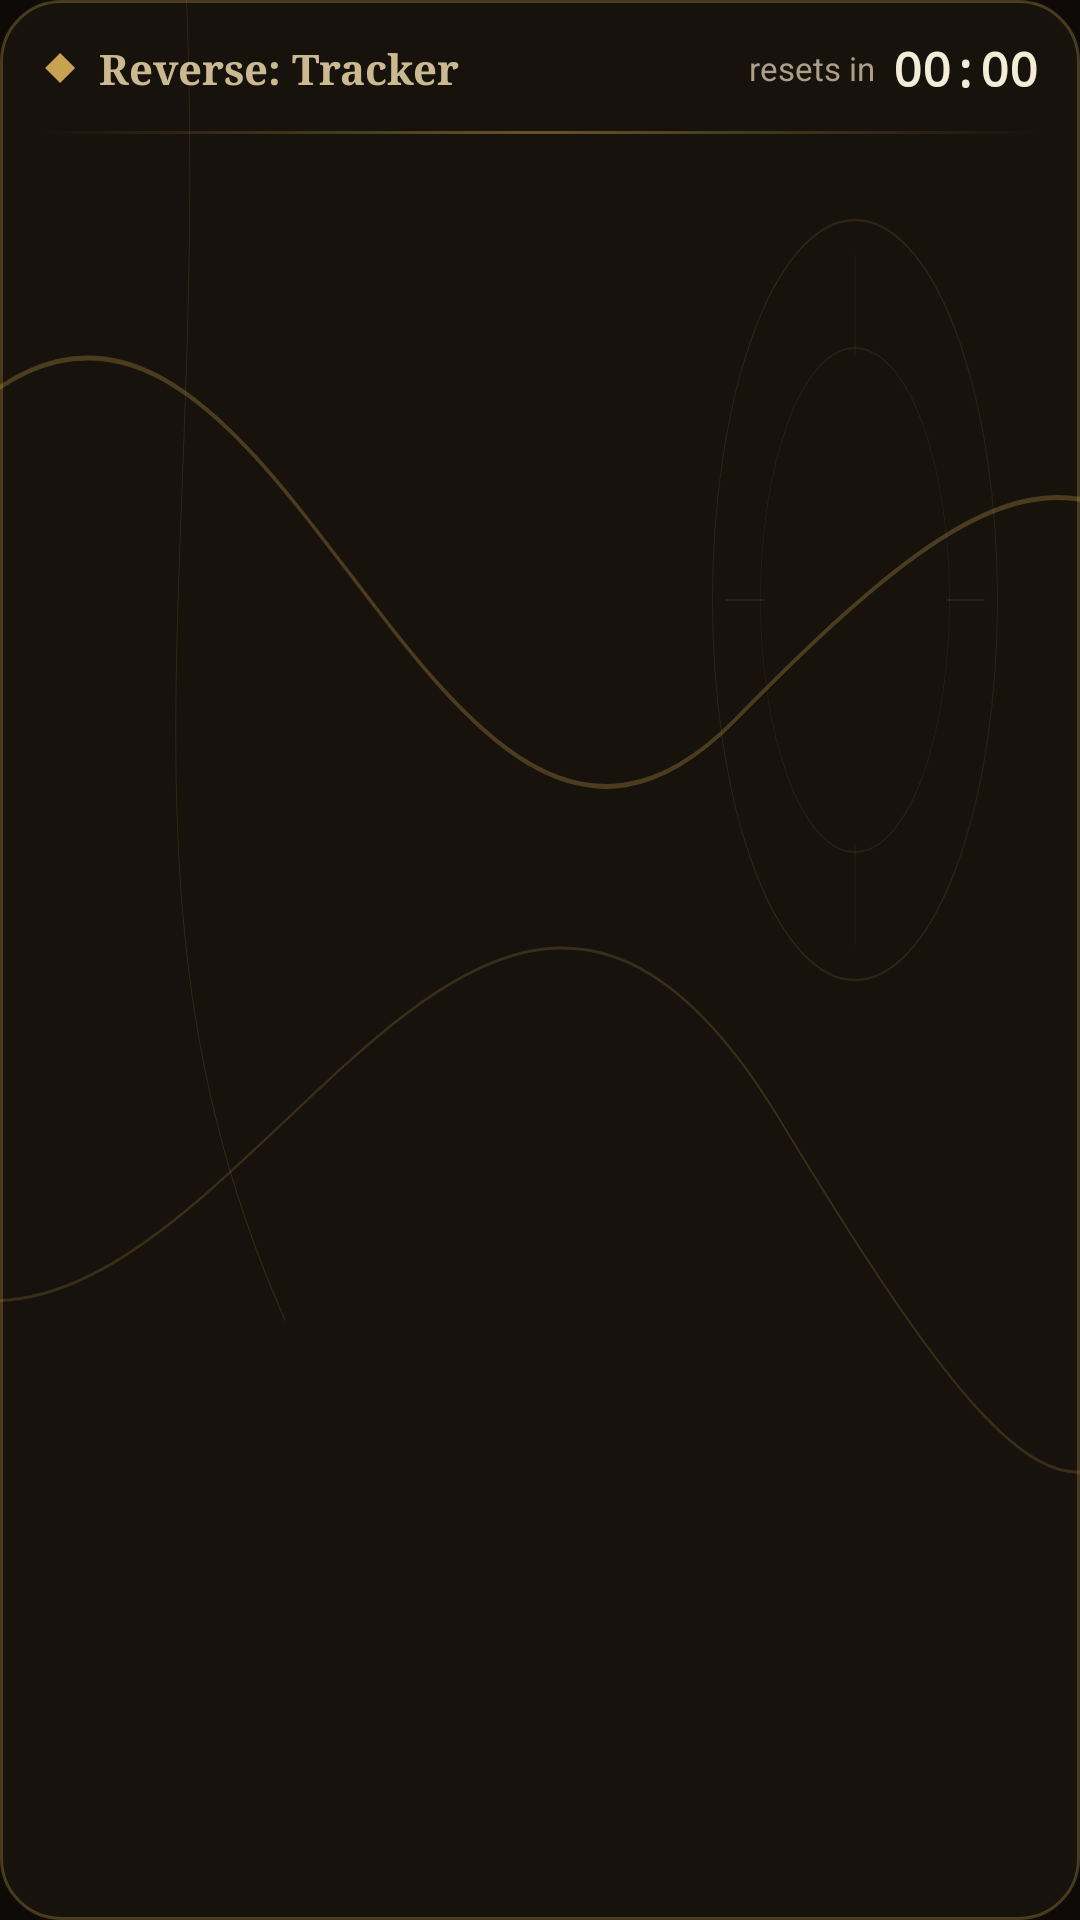

Locate icon controls on the screen. Image size 1080px x 1920px, boxes as [left=x1, top=y1, right=x2, bottom=y2].
widget diamond: [left=45, top=53, right=75, bottom=83]
